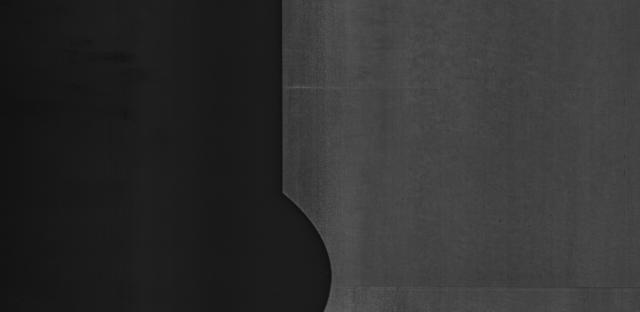crescent_gap: (252, 163, 346, 312)
welding_line: (326, 278, 640, 300)
